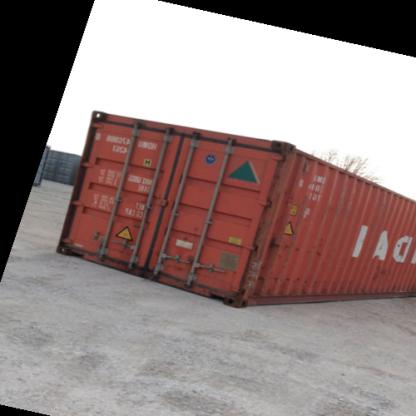Damage: (268, 235, 332, 256), (274, 179, 312, 209), (256, 266, 316, 278), (267, 283, 314, 297), (364, 258, 391, 277), (180, 221, 199, 248), (341, 282, 370, 294), (138, 189, 154, 206), (389, 282, 411, 292)
